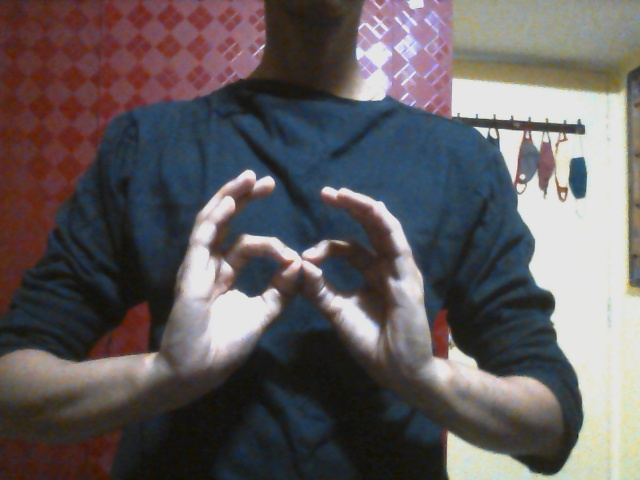B: (159, 168, 436, 409)
